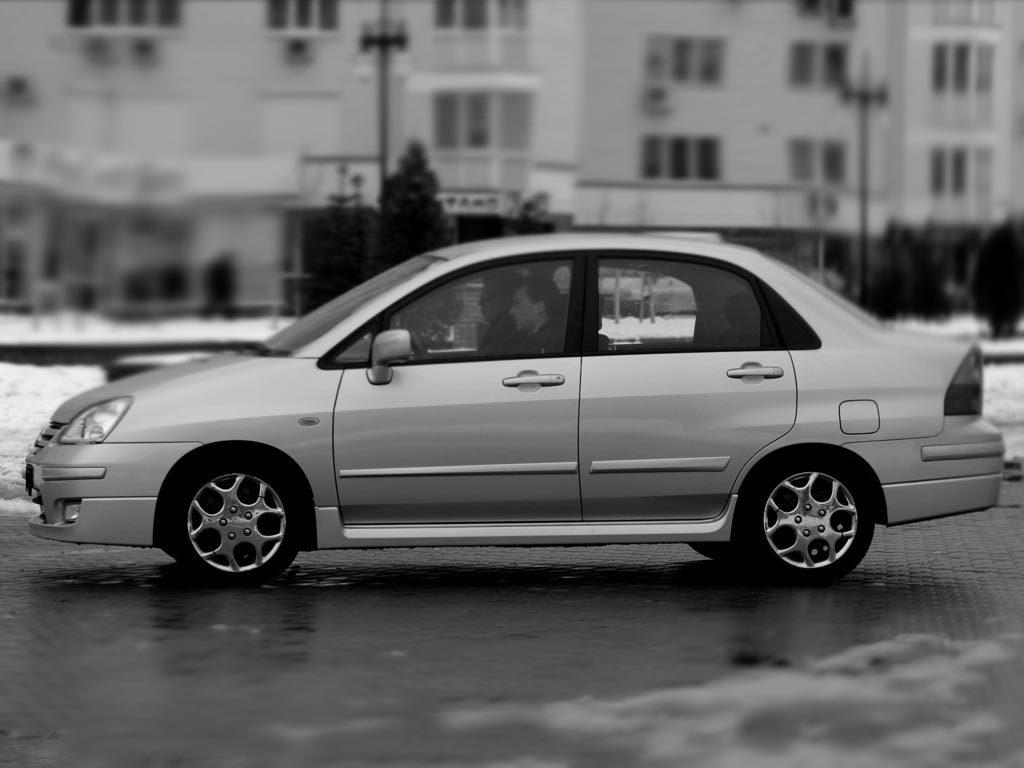car: (14, 224, 1011, 612)
